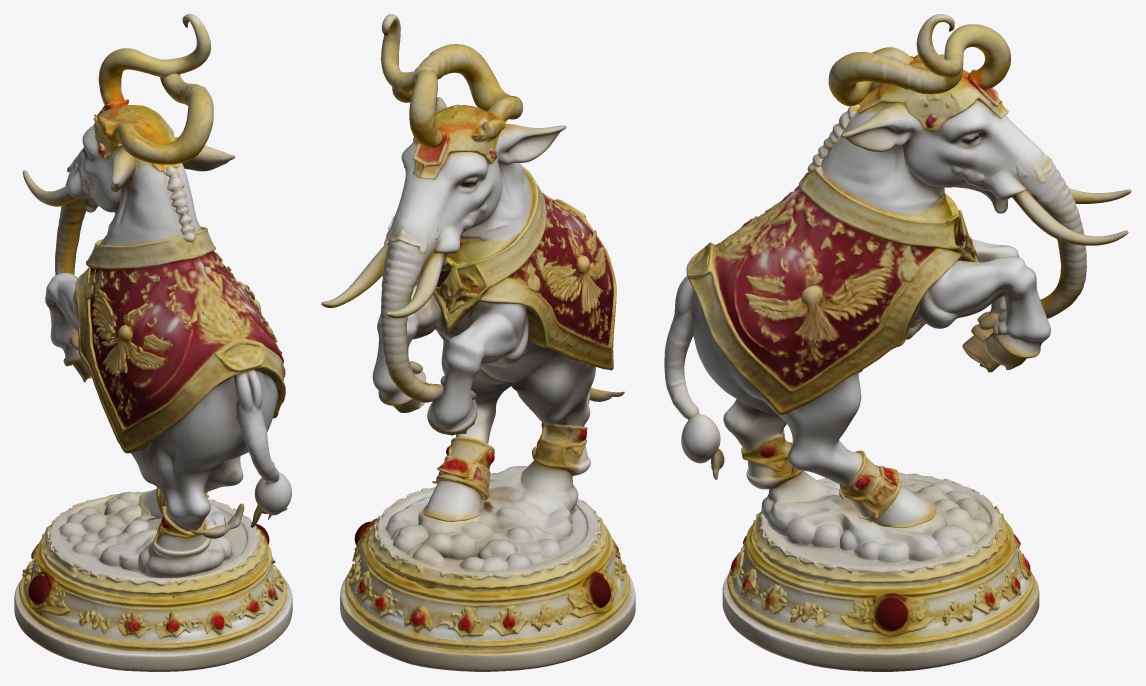
The model's file is sample_2026-11-06T111346.525.glb.
3 renders of one model, left to right at view 1: azimuth 30°, elevation 25°; view 2: azimuth 150°, elevation 25°; view 3: azimuth 270°, elevation 25°, orthographic. The views are drawn at different scales.
Parts seen in each view (by area): view 1: world; view 2: world; view 3: world.
Boxes of the visible parts, <box> form: world: <box>14,14,292,671</box>; world: <box>321,14,635,671</box>; world: <box>664,14,1131,671</box>.
Size of the model in its own units: 0.4447 by 1 by 0.6719.
Materials: 1 (1 with a texture image).
